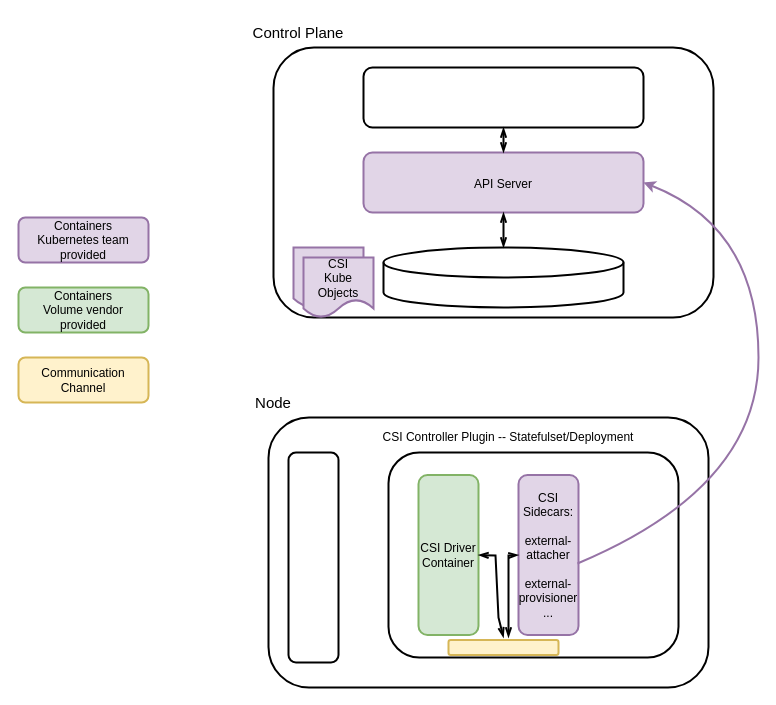
The diagram is 776 pixels wide and 705 high, and some of its shapes have lost their labels. The shapes that lost their labels are listed below. From the top down, each one's centre as x and y in pixels, then its label:
the point at 503,97: Kube Controller Manager
the point at 503,277: ETCD
the point at 313,557: Kubelet
the point at 503,647: UDS
